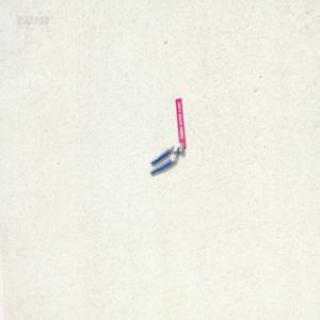LuggageTagtrack_idkeyframe: (174, 96, 185, 146)
Pliertrack_idkeyframe: (148, 140, 182, 173)
